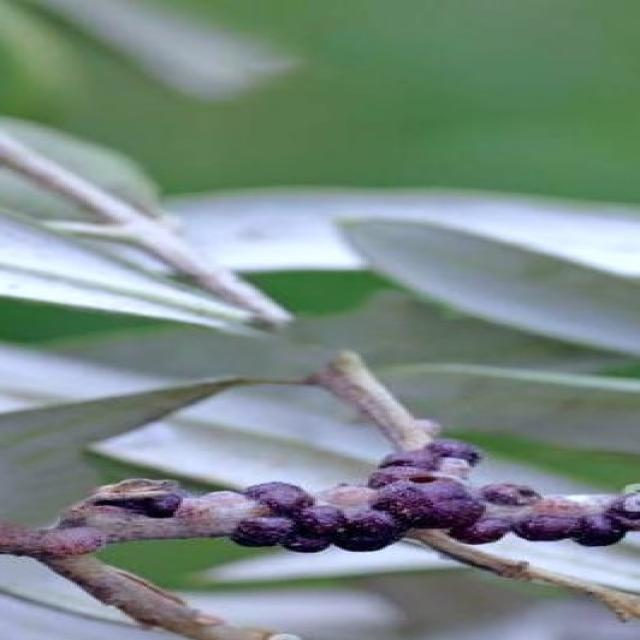BlackScale: (231, 439, 638, 576), (92, 478, 174, 517)
